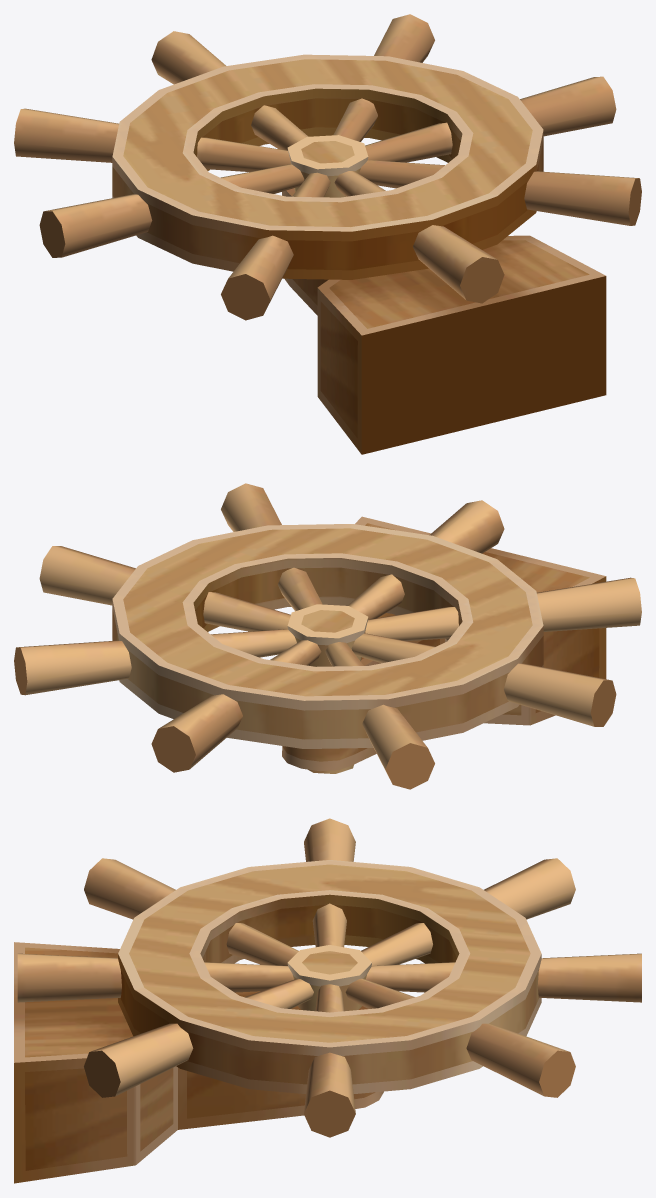
Rendered from CaptainsWheel.fbx.
The picture shows the model from 3 angles, top to bottom: view 1: azimuth 30°, elevation 25°; view 2: azimuth 150°, elevation 25°; view 3: azimuth 270°, elevation 25°; orthographic projection.
Parts seen in each view (by area): view 1: MigratorWheel; view 2: MigratorWheel; view 3: MigratorWheel.
Part boxes in pixels (<box>): MigratorWheel: <box>14,14,641,454</box>; MigratorWheel: <box>14,483,641,789</box>; MigratorWheel: <box>14,818,641,1183</box>.
Size of the model in its own units: 82.1 by 23.85 by 80.08.
